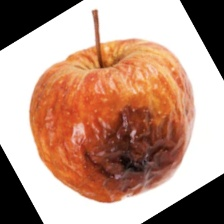apple: (1, 10, 200, 209)
